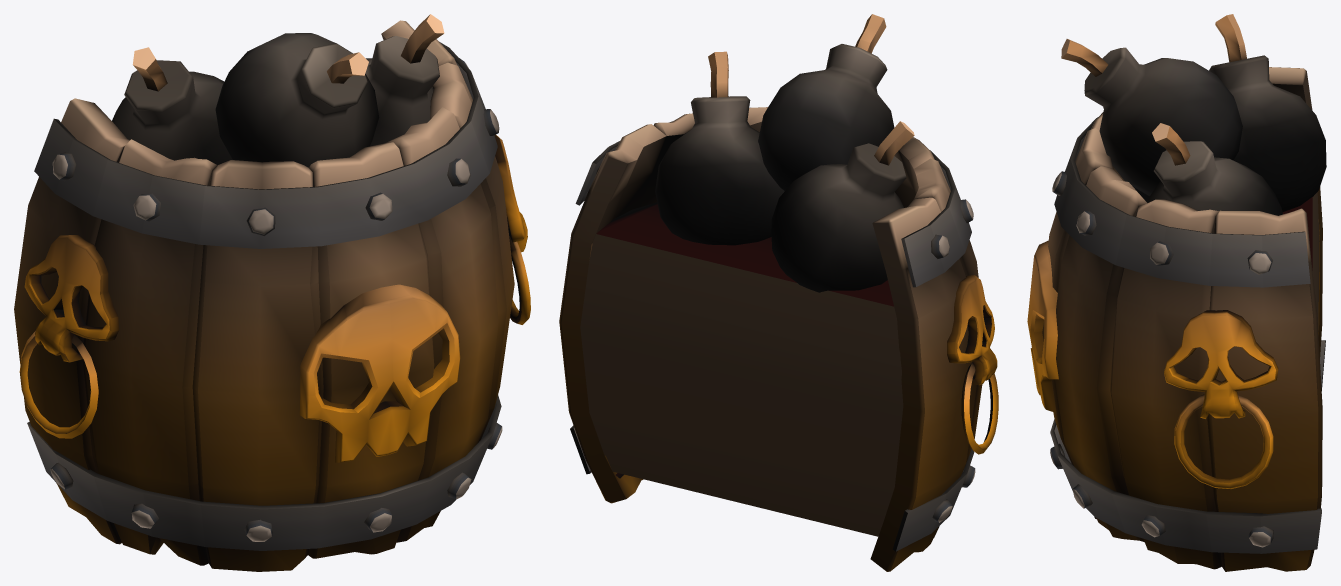
The model's file is Back_Bomb_Barrel.gltf.
3 views of the same model, side by side, from view 1: azimuth 30°, elevation 25°; view 2: azimuth 150°, elevation 25°; view 3: azimuth 270°, elevation 25° (orthographic). The views are drawn at different scales.
Parts seen in each view (by area): view 1: Back_Bomb_Barrel; view 2: Back_Bomb_Barrel; view 3: Back_Bomb_Barrel.
Part boxes in pixels (left/top/right/bottom): Back_Bomb_Barrel: left=14, top=14, right=530, bottom=571; Back_Bomb_Barrel: left=559, top=14, right=998, bottom=571; Back_Bomb_Barrel: left=1027, top=14, right=1326, bottom=571.
Bounding box in the file's own units: 0.7946 × 0.8244 × 0.4854.
Materials: 2 (2 with a texture image).
